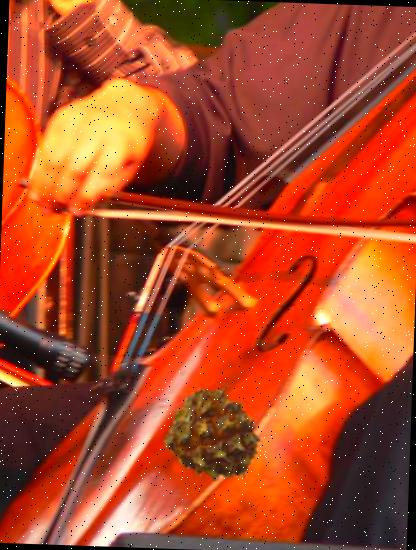Pineapple: (167, 385, 269, 487)
